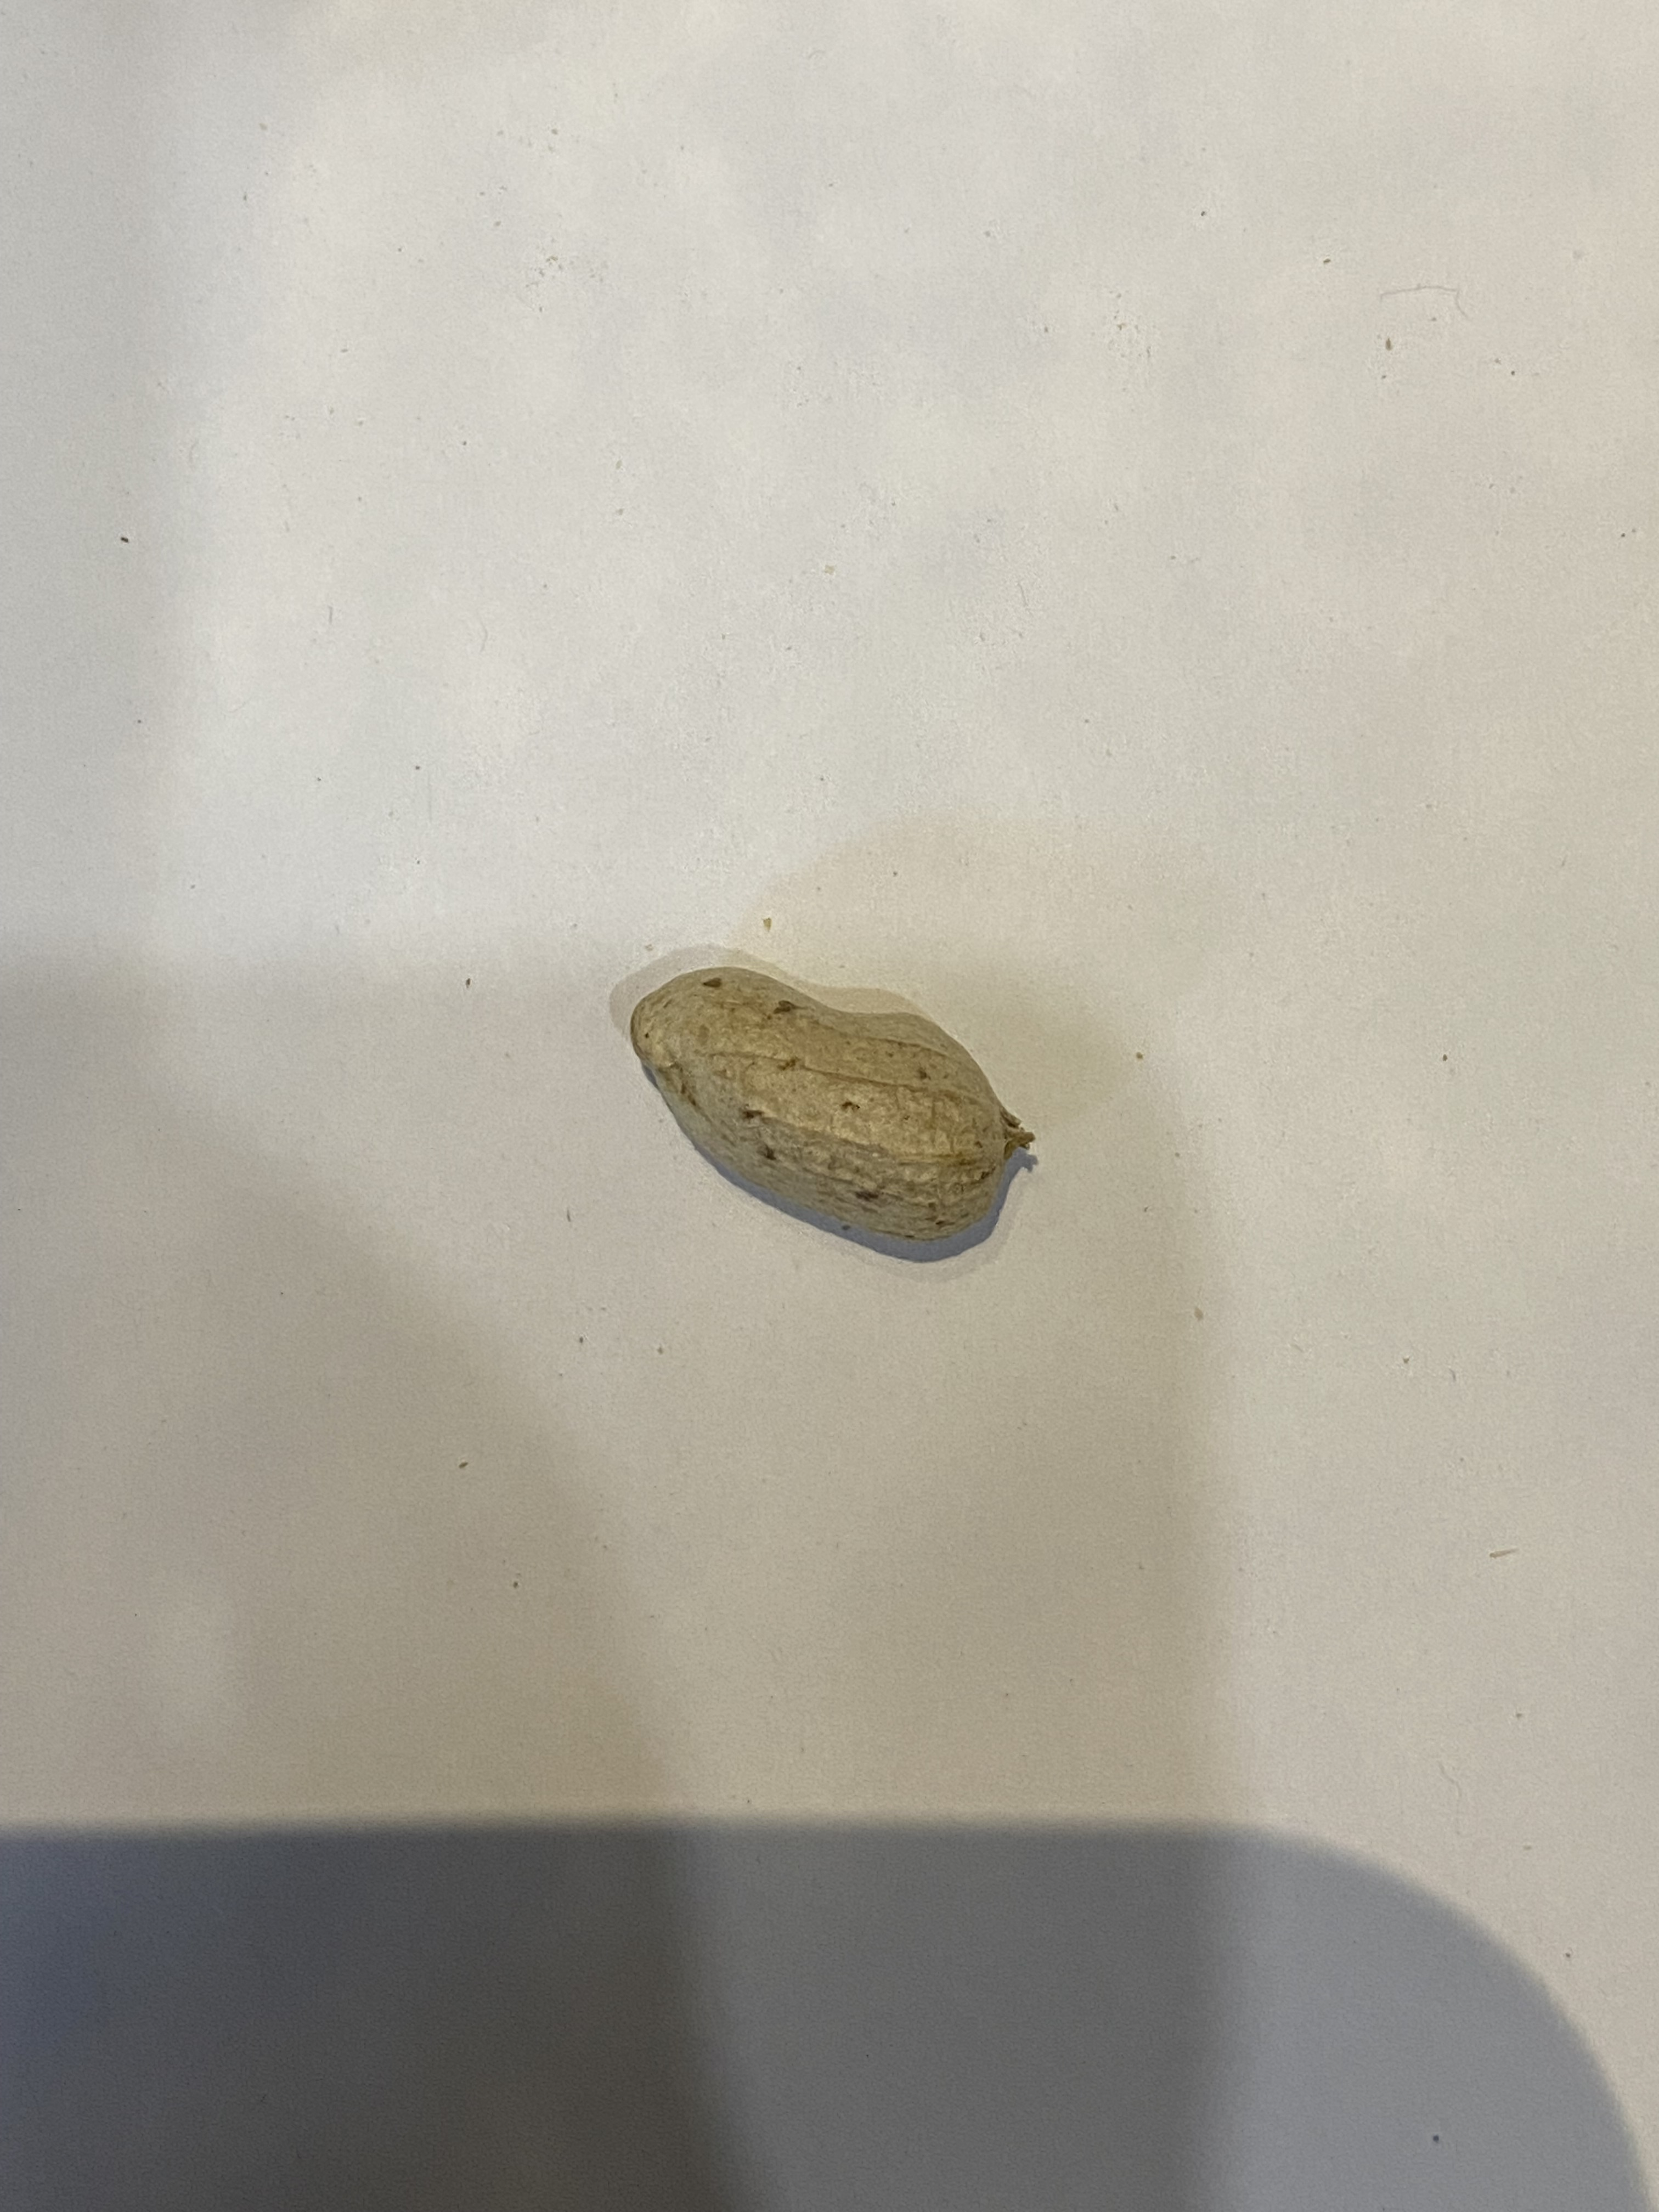kacang2: (629, 928, 1030, 1263)
